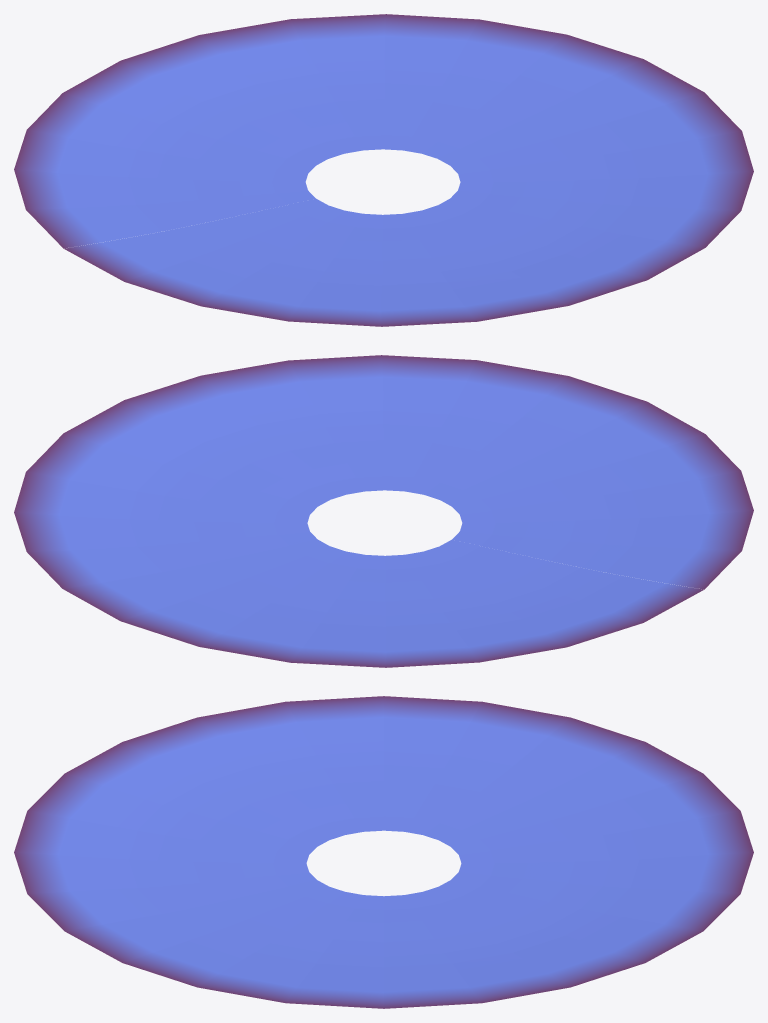
Rendered from 017_Reisa_Spell1_Explode_l.fbx.
3 renders of one model, top to bottom at view 1: azimuth 30°, elevation 25°; view 2: azimuth 150°, elevation 25°; view 3: azimuth 270°, elevation 25°, orthographic.
Visible parts, largest first — view 1: Stom; view 2: Stom; view 3: Stom.
Part boxes in pixels (left/top/right/bottom): Stom: left=14, top=14, right=753, bottom=326; Stom: left=14, top=355, right=753, bottom=667; Stom: left=14, top=696, right=753, bottom=1008.
Size of the model in its own units: 6.43 by 0.1095 by 6.43.
